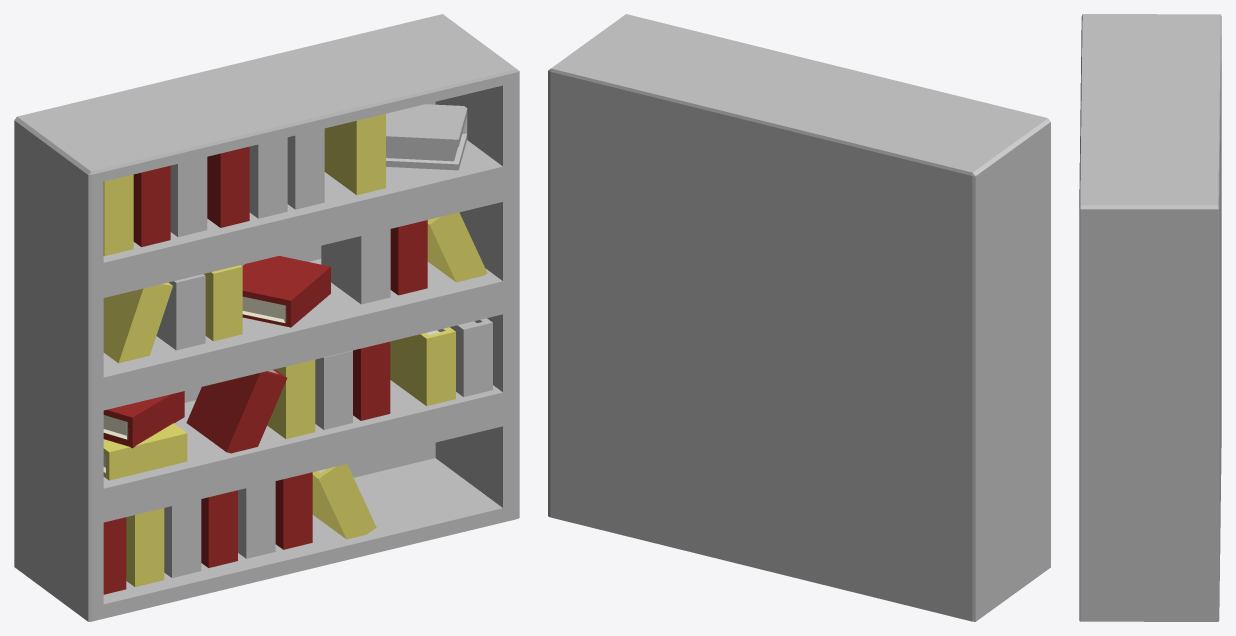
Rendered from Shelf.fbx.
3 renders of one model, left to right at view 1: azimuth 30°, elevation 25°; view 2: azimuth 150°, elevation 25°; view 3: azimuth 270°, elevation 25°, orthographic. The views are drawn at different scales.
Parts seen in each view (by area): view 1: Cube, Cube.021, Cube.006, Cube.013; view 2: Cube; view 3: Cube.
Part boxes in pixels (box(x1,y1,x2,y2)): Cube: box(14, 14, 519, 621); Cube.021: box(103, 113, 487, 586); Cube.006: box(103, 146, 427, 594); Cube.013: box(156, 104, 492, 577); Cube: box(548, 14, 1050, 621); Cube: box(1079, 14, 1221, 621).
Size of the model in its own units: 209 by 209 by 64.88.
